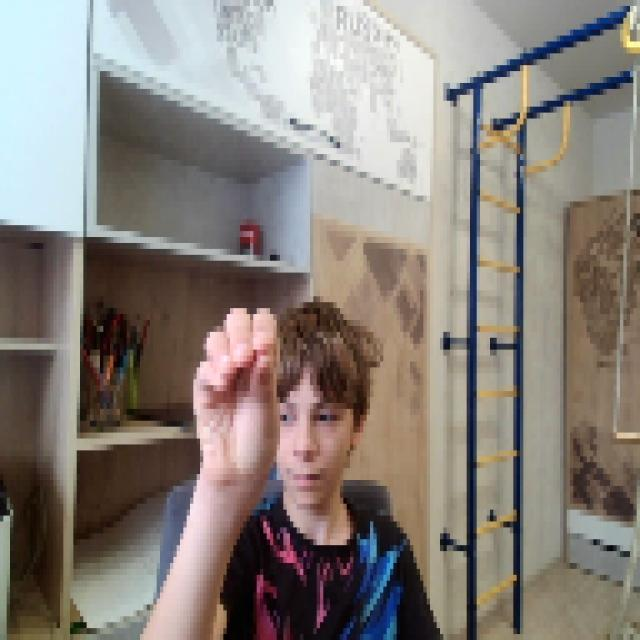left_click: (190, 296, 280, 492)
